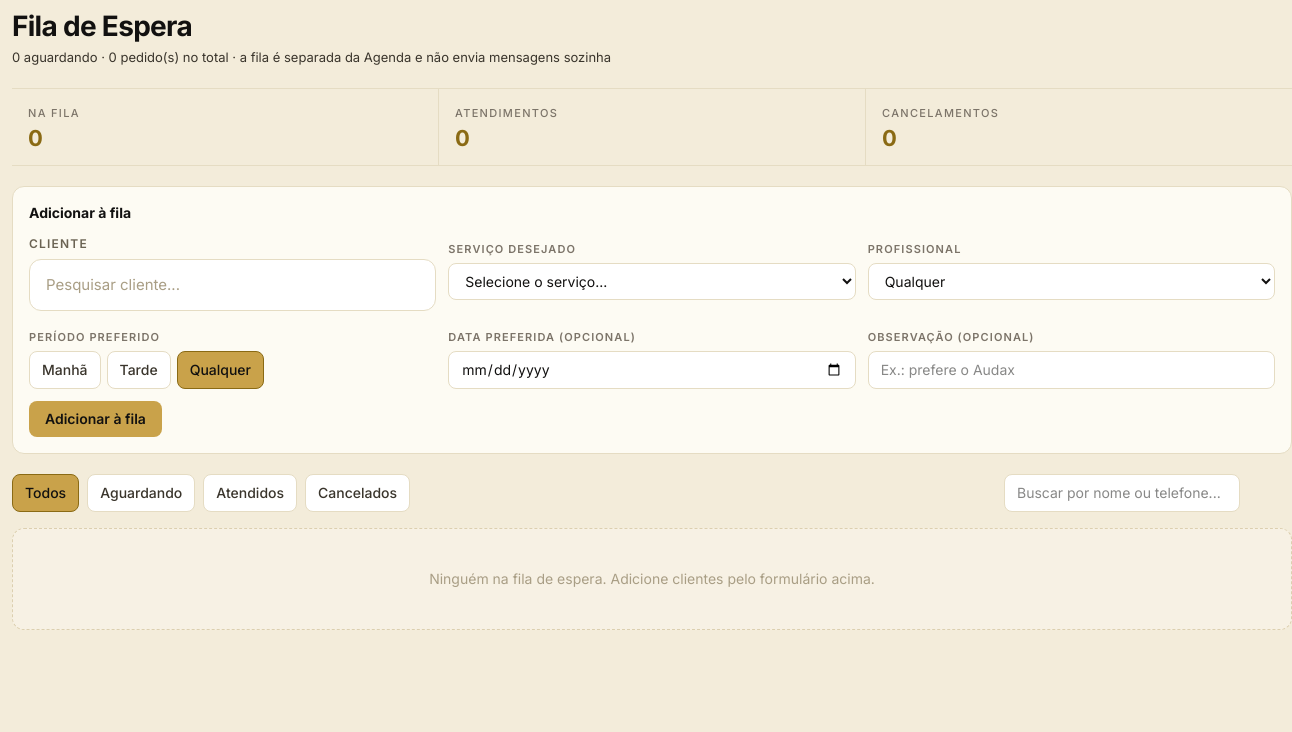
Test: Espera — Editar segue espera:pedido_editar › recepção vê Editar no pedido
The image size is (1292, 732).
Type "Ana" into the dropdown labelled "Cliente" at (233, 285), box [29,259,436,311]
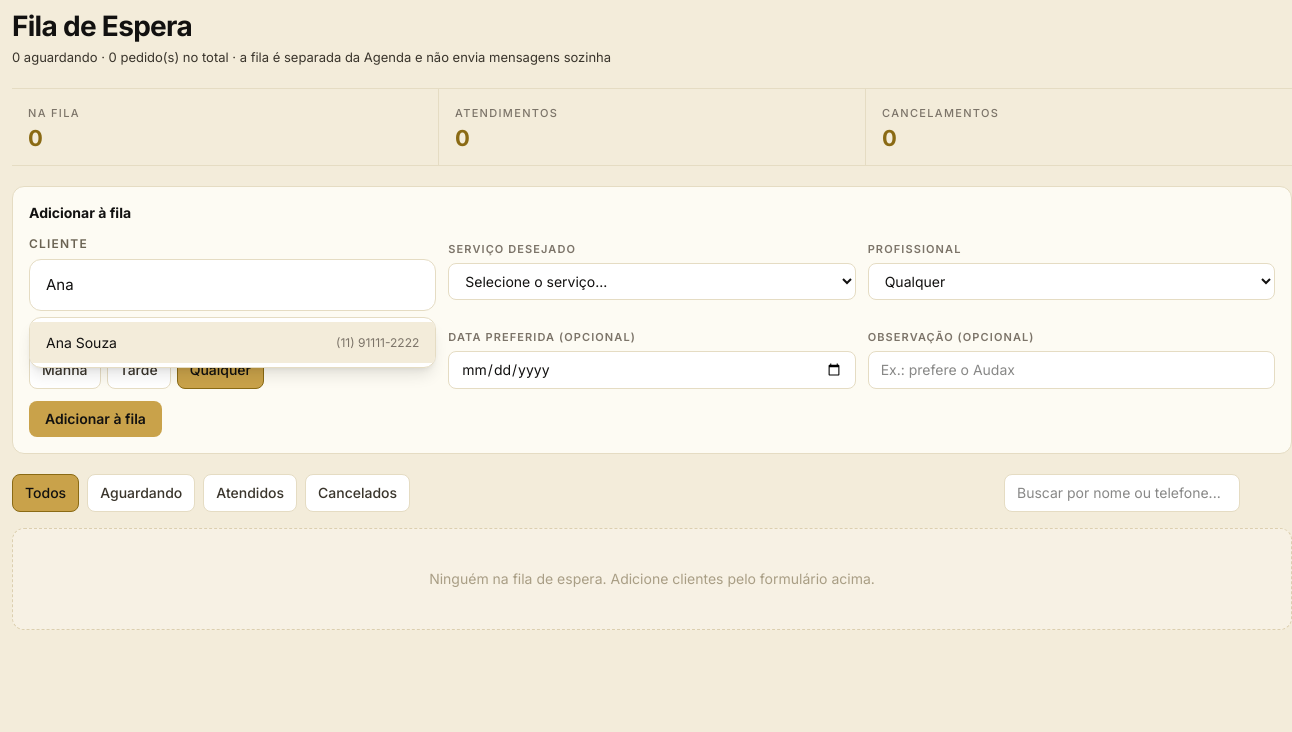
Click the option "Ana Souza (11) 91111-2222" at (81, 342), box [30,322,435,363]
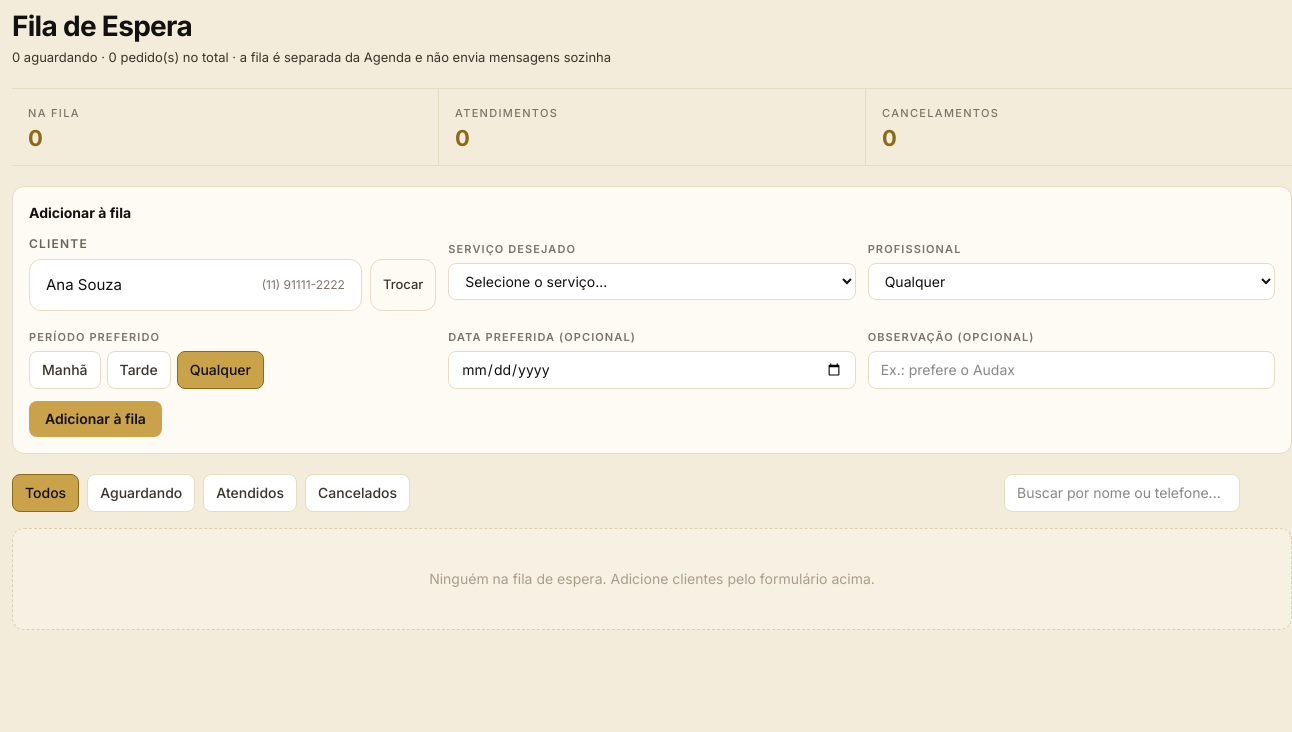
Select "Corte Degradê" in the dropdown labelled "Serviço desejado" at (652, 282), box [448,263,856,300]
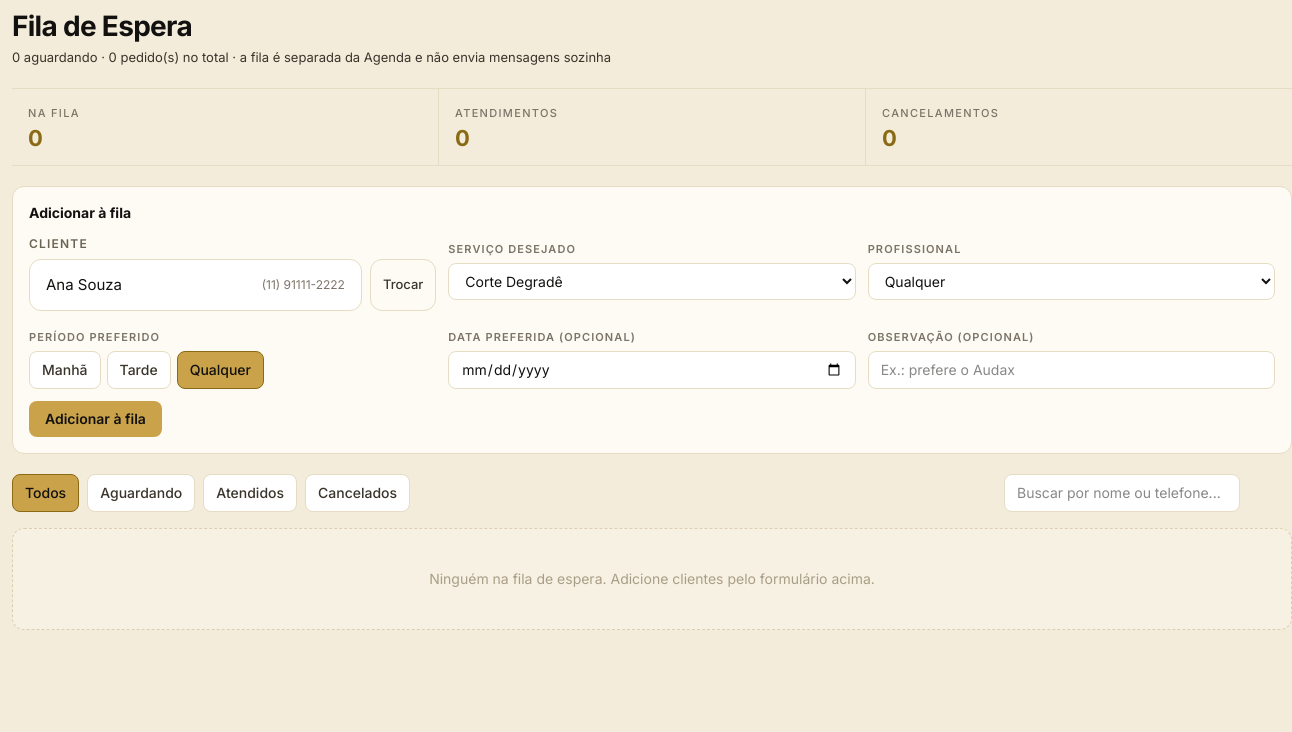
Click the button "Adicionar à fila" at (95, 419), box [29,401,162,437]
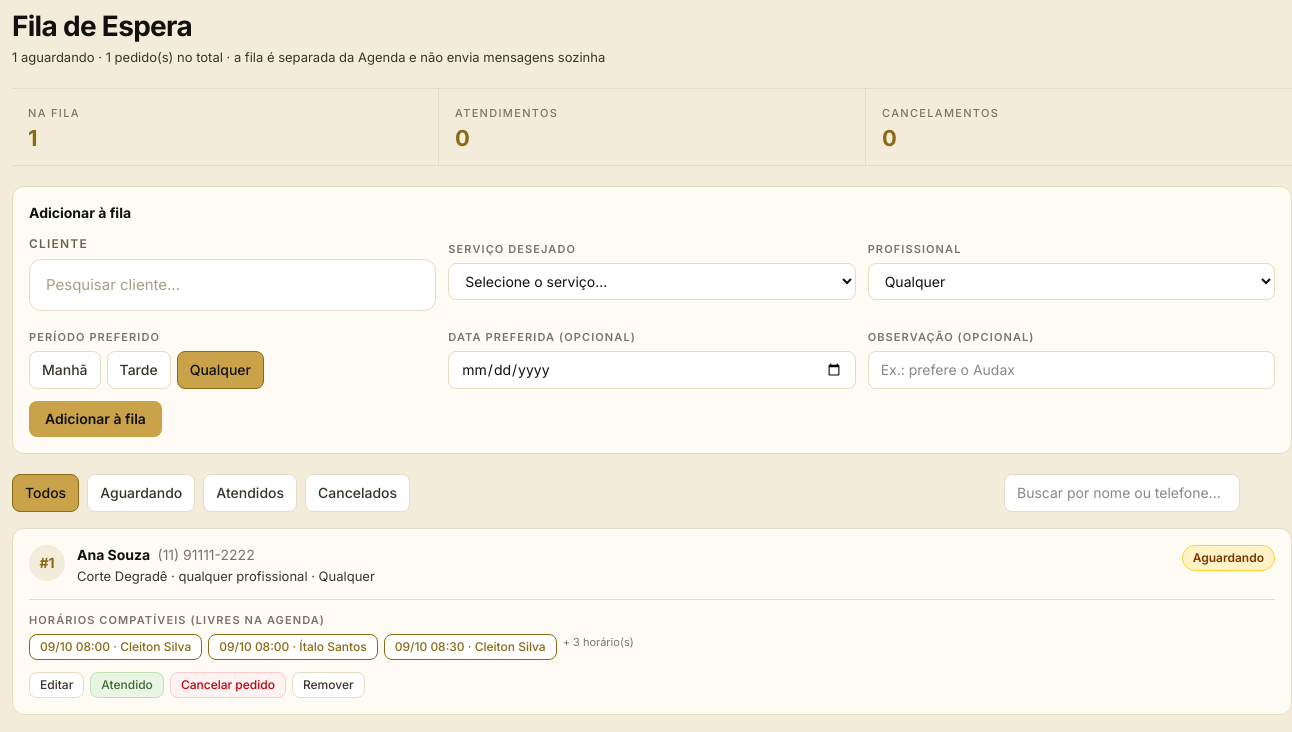
Check: the button "Editar" is shown, box [29,672,84,698]
